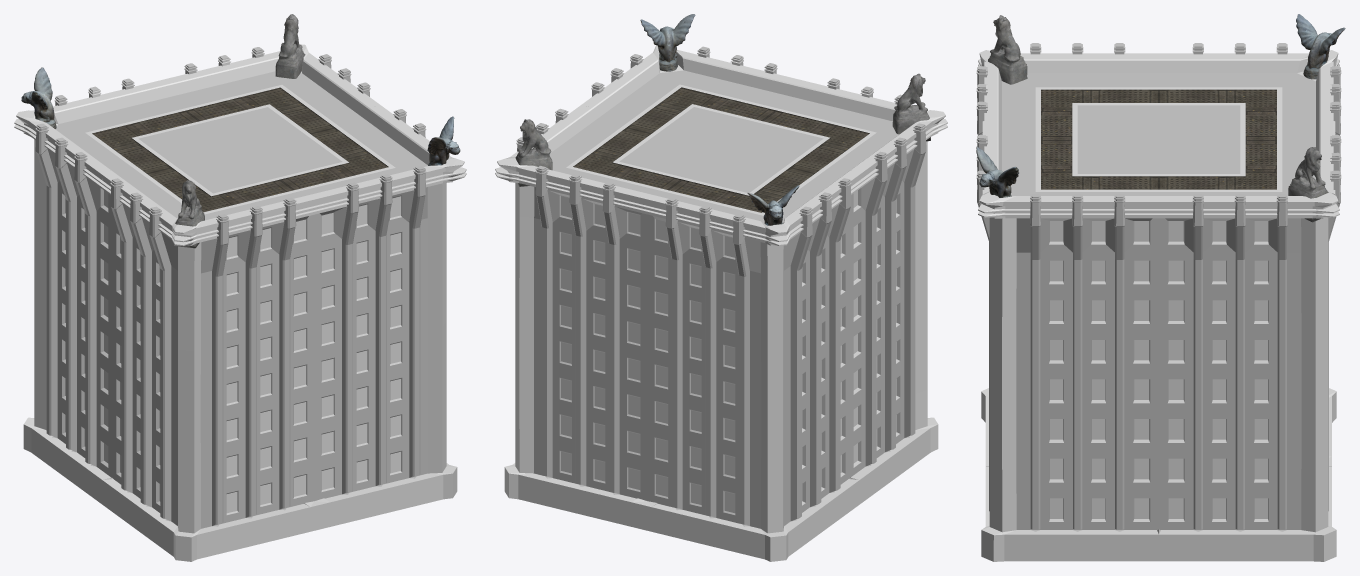
File: ArenaBuilding.fbx
The picture shows the model from 3 angles, left to right: view 1: azimuth 30°, elevation 25°; view 2: azimuth 150°, elevation 25°; view 3: azimuth 270°, elevation 25°; orthographic projection. The views are drawn at different scales.
Parts seen in each view (by area): view 1: ArenBuilding; view 2: ArenBuilding; view 3: ArenBuilding.
Boxes of the visible parts, box(x1,y1,x2,y2) form: ArenBuilding: box(14, 14, 466, 561); ArenBuilding: box(495, 14, 947, 561); ArenBuilding: box(976, 14, 1345, 561).
Bounding box in the file's own units: 12784 × 15565 × 12825.
